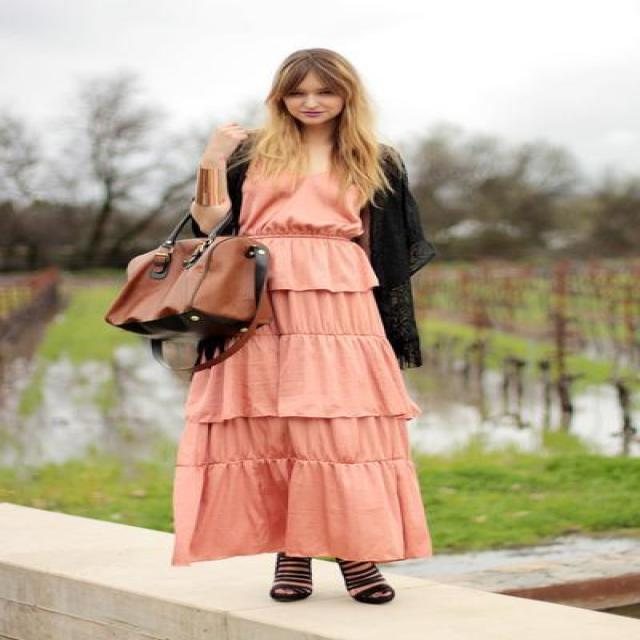bag: (93, 218, 301, 370)
dress: (171, 175, 432, 568)
jacket: (216, 155, 422, 368)
shoe: (346, 575, 394, 604)
